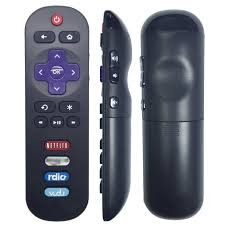remote control: (139, 6, 211, 225), (24, 2, 89, 221), (96, 2, 137, 225)
